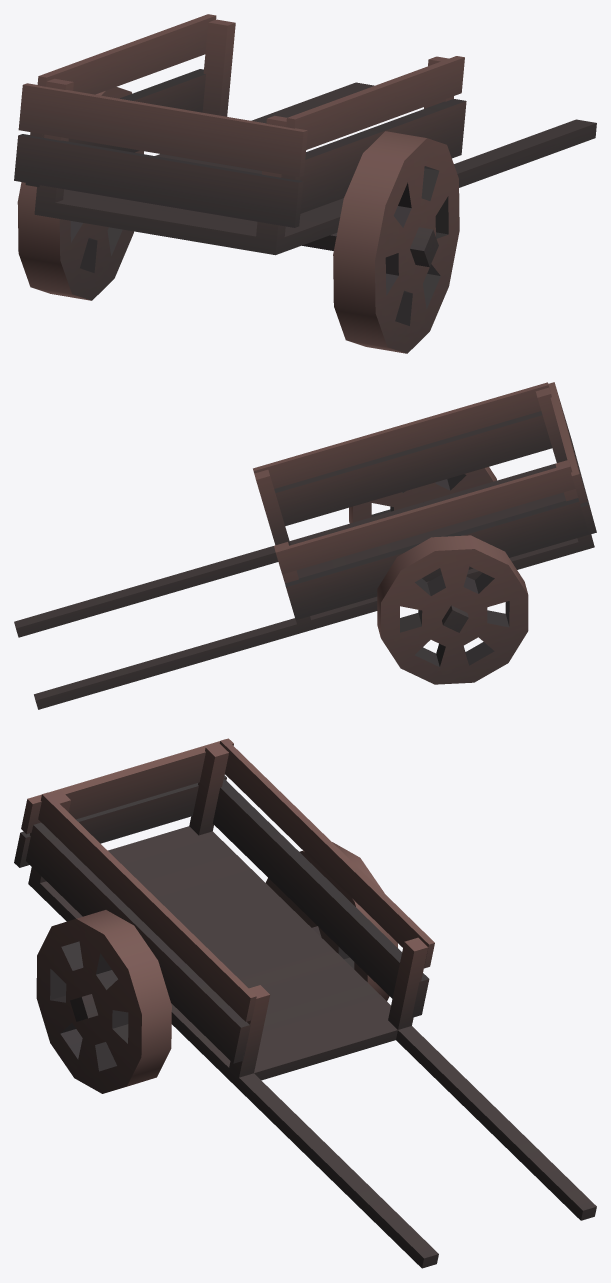
3 views of the same model, one above another, from view 1: azimuth 30°, elevation 25°; view 2: azimuth 150°, elevation 25°; view 3: azimuth 270°, elevation 25° (orthographic). The views are drawn at different scales.
Visible parts, largest first — view 1: Cube_6; view 2: Cube_6; view 3: Cube_6.
Part boxes in pixels (x1,y1,x2,y2): Cube_6: (14, 14, 596, 353); Cube_6: (14, 382, 596, 709); Cube_6: (14, 738, 596, 1268).
Bounding box in the file's own units: 79.12 × 34.16 × 68.42.
